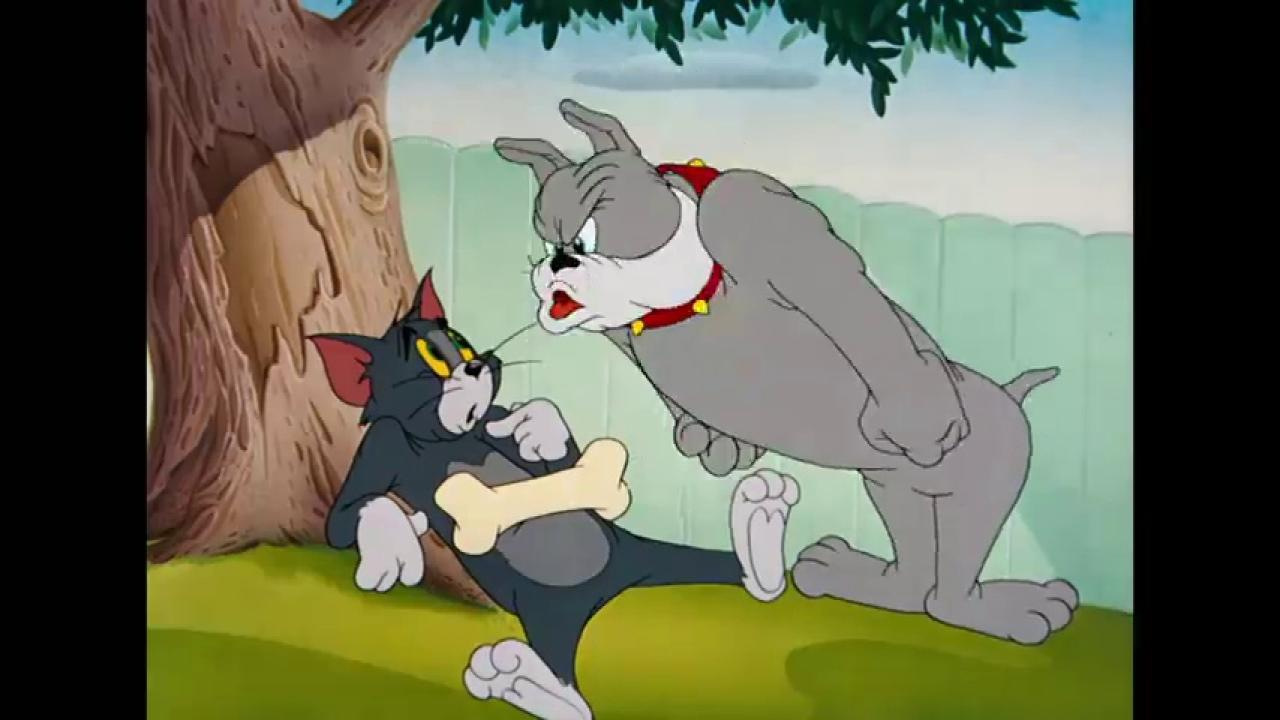Tom: (300, 262, 802, 720)
